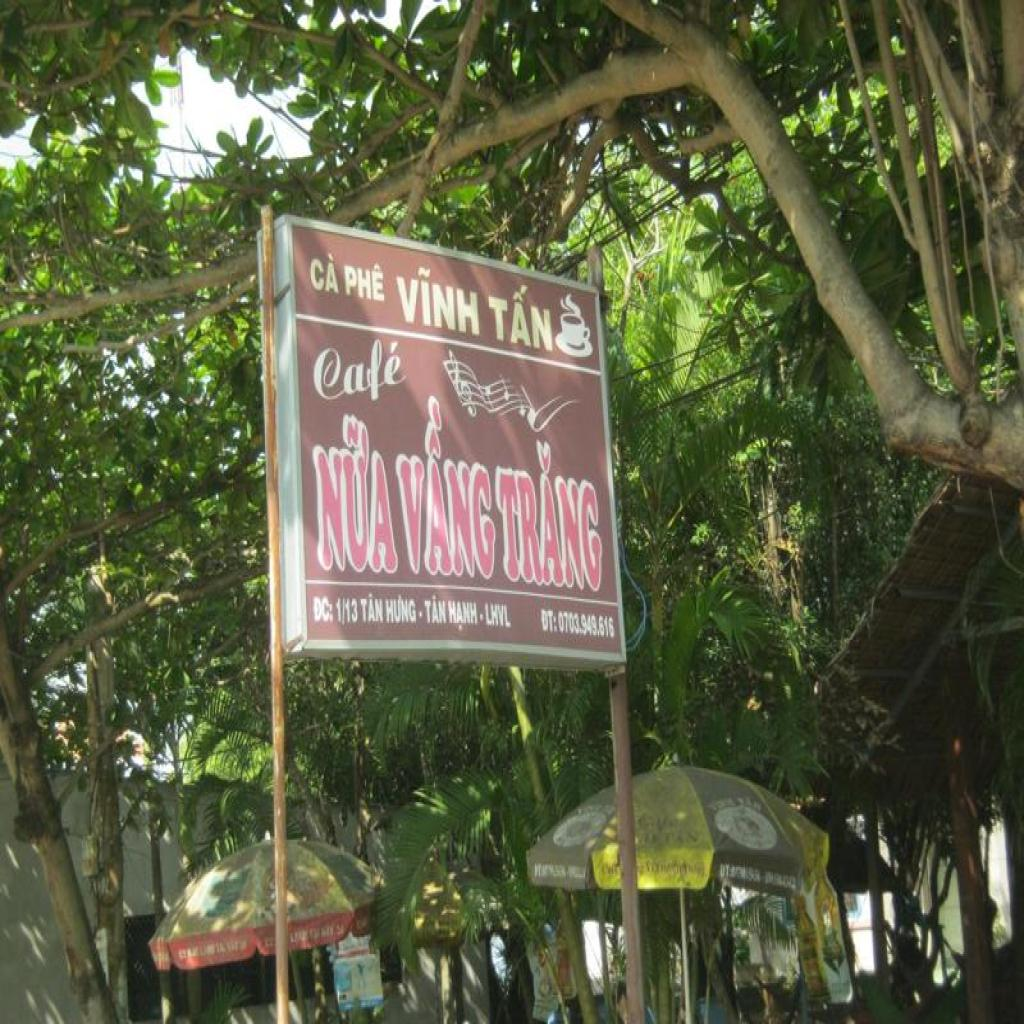text: (385, 384, 497, 585), (493, 434, 609, 598), (300, 411, 400, 575), (309, 333, 412, 413), (392, 260, 482, 340), (486, 271, 556, 357), (341, 256, 389, 302), (558, 608, 617, 640), (310, 246, 343, 297), (448, 597, 480, 635), (383, 592, 417, 625), (357, 589, 384, 626), (422, 591, 448, 628), (484, 599, 513, 632), (334, 592, 360, 628), (310, 590, 335, 626), (539, 604, 559, 637)
